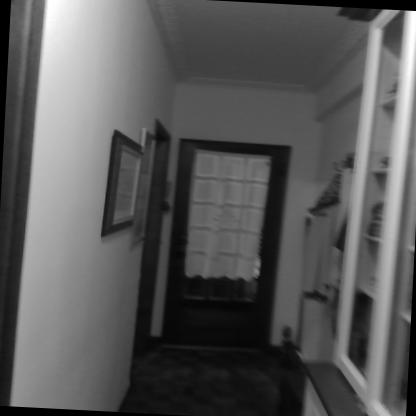closed: (150, 136, 307, 364)
